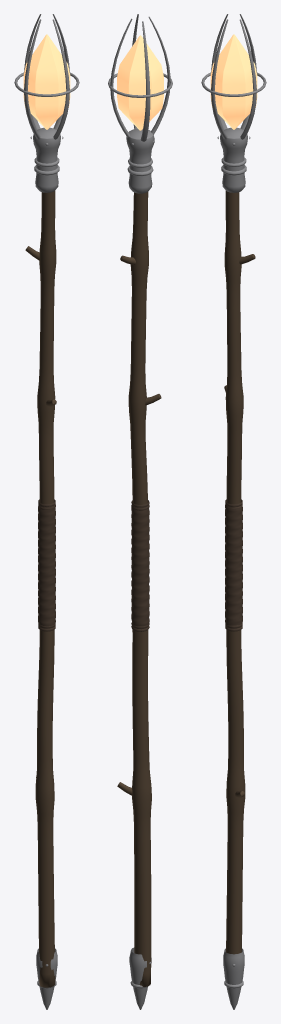
Rendered from gear_staff.glb.
The picture shows the model from 3 angles, left to right: view 1: azimuth 90°, elevation 25°; view 2: azimuth 150°, elevation 25°; view 3: azimuth 270°, elevation 25°; orthographic projection.
Parts seen in each view (by area): view 1: gear_staff; view 2: gear_staff; view 3: gear_staff.
Boxes of the visible parts, <box> form: gear_staff: <box>14,14,79,1009</box>; gear_staff: <box>108,14,172,1009</box>; gear_staff: <box>201,14,266,1009</box>.
Bounding box in the file's own units: 0.1327 × 2.24 × 0.1327.
